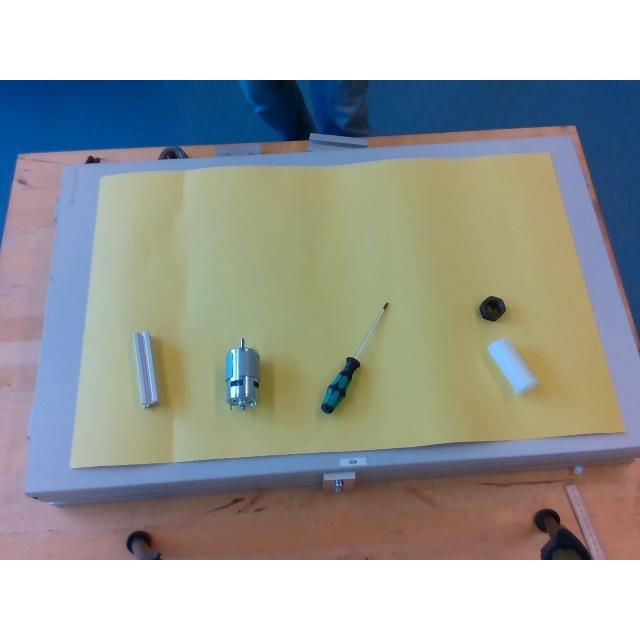F20_20_G: (134, 330, 158, 406)
M20: (478, 294, 507, 322)
Motor2: (226, 338, 260, 407)
Screwdriver: (320, 301, 388, 411)
Spacer: (487, 338, 537, 392)
